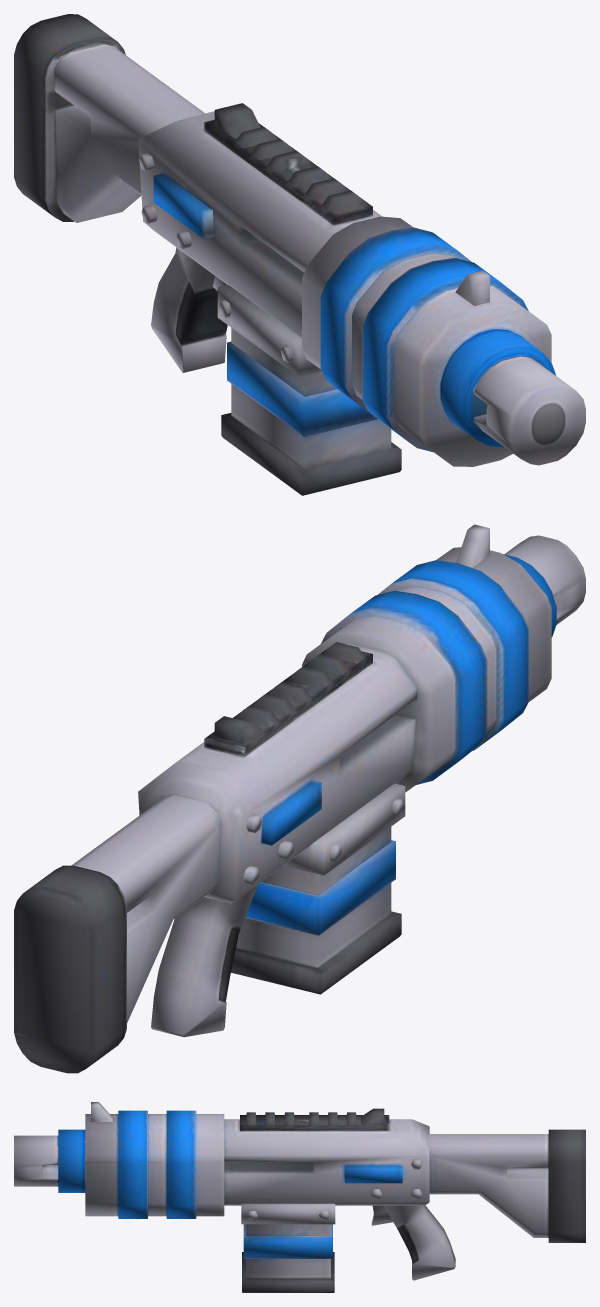
File: rifle.glb
3 renders of one model, top to bottom at view 1: azimuth 30°, elevation 25°; view 2: azimuth 150°, elevation 25°; view 3: azimuth 270°, elevation 25°, orthographic. The views are drawn at different scales.
Visible parts, largest first — view 1: tripo_node_15553afe-685b-4e08-8f11-6dec21455f7f; view 2: tripo_node_15553afe-685b-4e08-8f11-6dec21455f7f; view 3: tripo_node_15553afe-685b-4e08-8f11-6dec21455f7f.
Part boxes in pixels (x1=…): tripo_node_15553afe-685b-4e08-8f11-6dec21455f7f: x1=14, y1=14, x2=585, y2=495; tripo_node_15553afe-685b-4e08-8f11-6dec21455f7f: x1=14, y1=524, x2=585, y2=1073; tripo_node_15553afe-685b-4e08-8f11-6dec21455f7f: x1=14, y1=1102, x2=585, y2=1292.
Bounding box in the file's own units: 0.1975 × 0.4051 × 1.2.
Materials: 1 (1 with a texture image).
